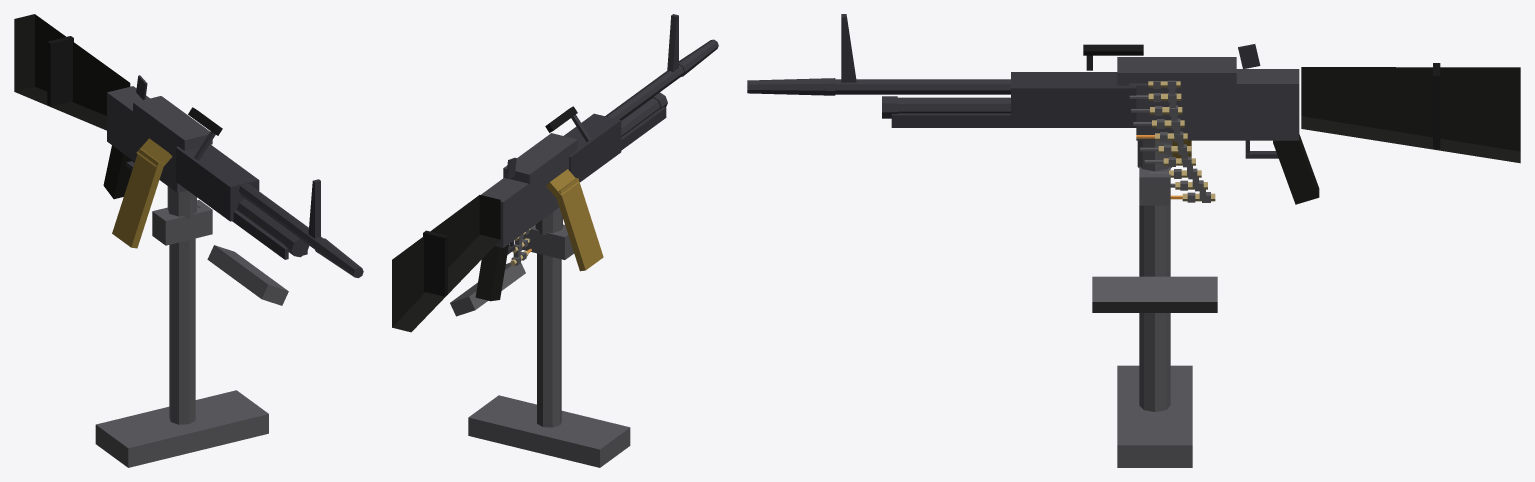
The model's file is m60_door_mount.glb.
3 views of the same model, side by side, from view 1: azimuth 30°, elevation 25°; view 2: azimuth 150°, elevation 25°; view 3: azimuth 270°, elevation 25° (orthographic). The views are drawn at different scales.
Visible parts, largest first — view 1: m60, huey_door_mount; view 2: m60, huey_door_mount; view 3: m60, huey_door_mount.
Boxes of the visible parts, box(x1,y1,x2,y2) form: m60: box(14, 14, 363, 278); huey_door_mount: box(95, 186, 288, 467); m60: box(392, 14, 718, 332); huey_door_mount: box(450, 207, 630, 467); m60: box(747, 14, 1520, 204); huey_door_mount: box(1092, 140, 1217, 467).
Bounding box in the file's own units: 0.3191 × 0.7259 × 1.23.
